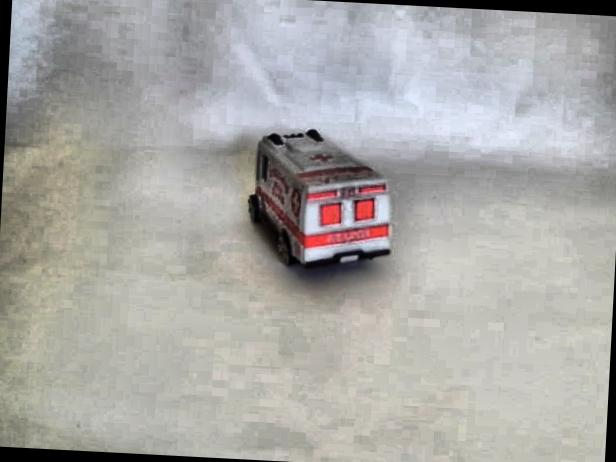ambulance: (243, 124, 396, 272)
